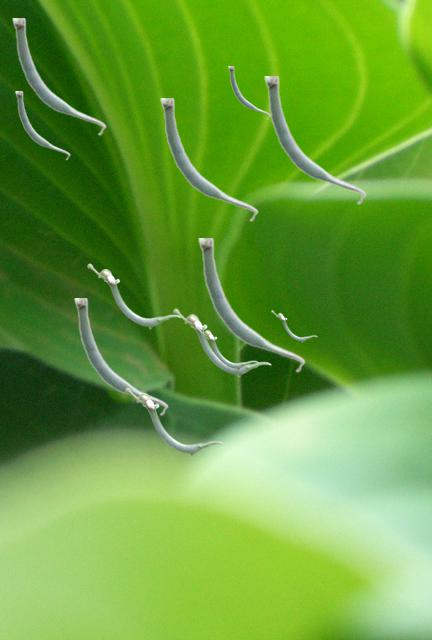french_bean: (198, 238, 304, 372), (264, 76, 365, 204), (160, 98, 257, 221), (74, 298, 167, 415), (12, 18, 105, 135), (173, 308, 270, 376), (125, 387, 222, 455), (87, 263, 180, 328), (15, 91, 69, 159), (195, 326, 257, 369), (228, 66, 269, 118), (271, 310, 316, 341)
